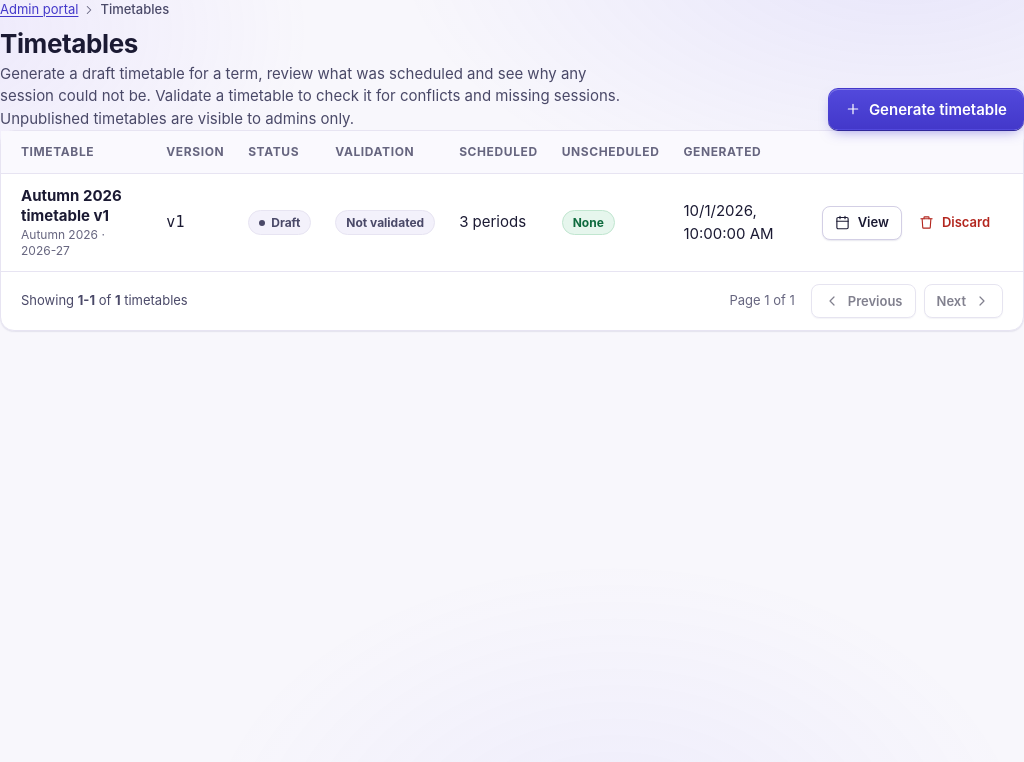
Test case: Editing a class › cannot save until something changes, and the rooms follow the chosen time
This screenshot has width=1024, height=762.
Click the button "View". click: (862,223)
box: [822,206,902,240]
(page scrolled)
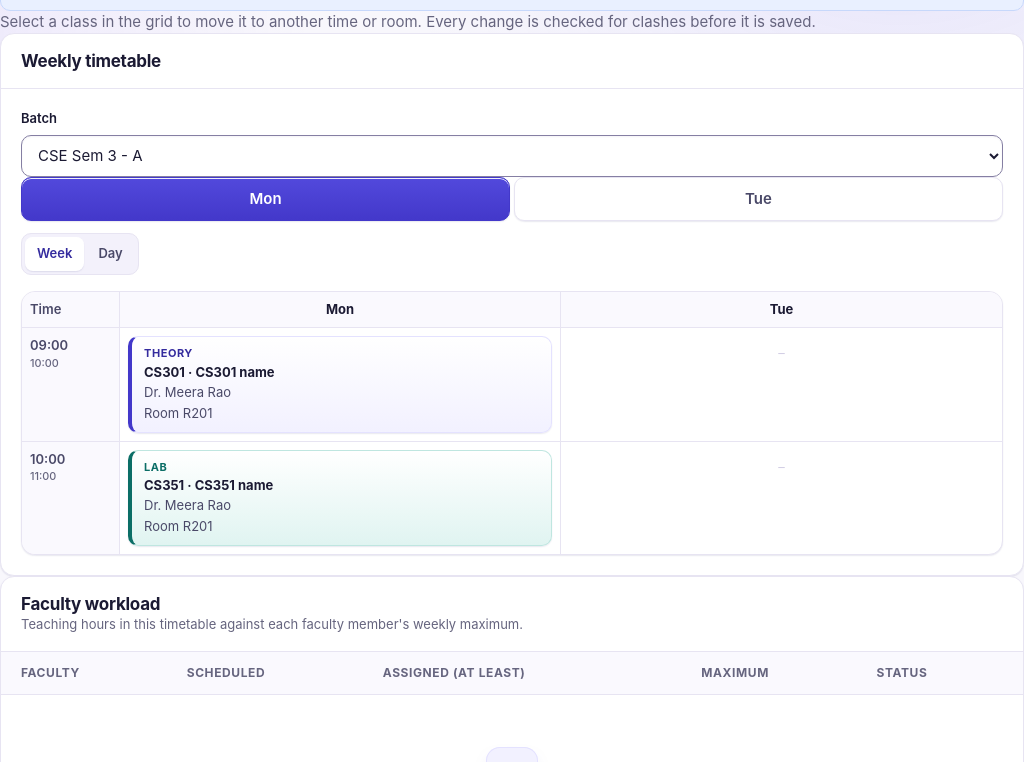
Click the button with aria-label "Move CS301". click: (340,384)
box: [128,336,552,433]
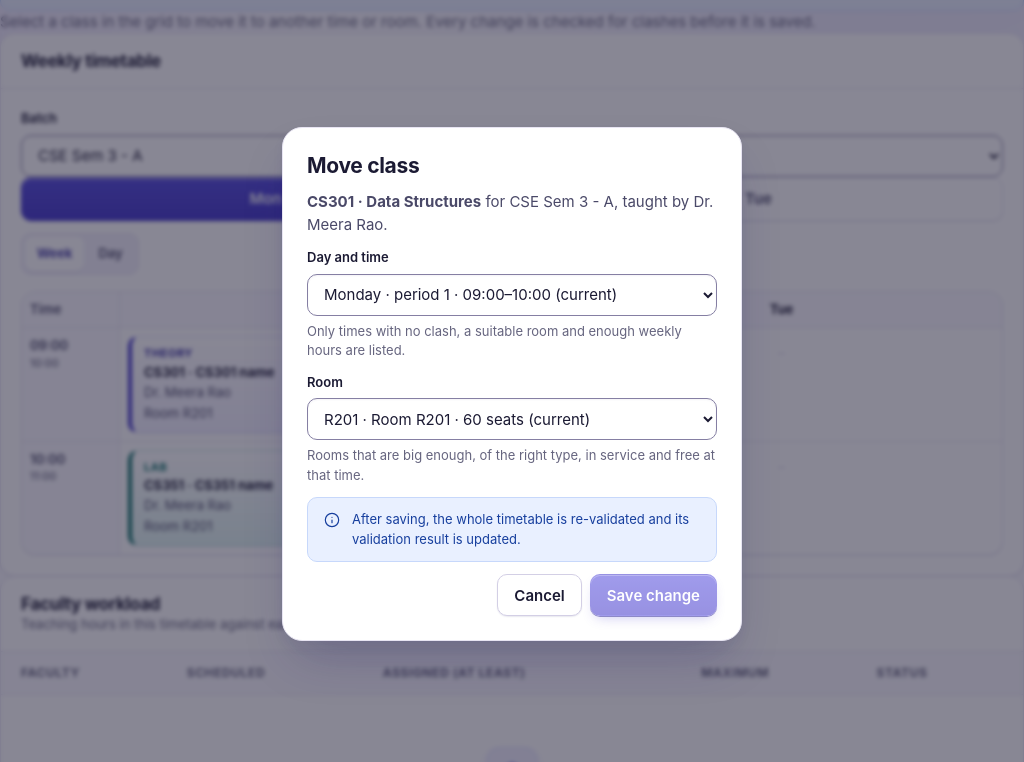
Check: the button "Save change" is disabled, box [590,574,717,616]
Select "Tuesday · period 1 · 09:00–10:00" in the dropdown labelled "Day and time". click: (512,295)
box: [307,274,717,316]
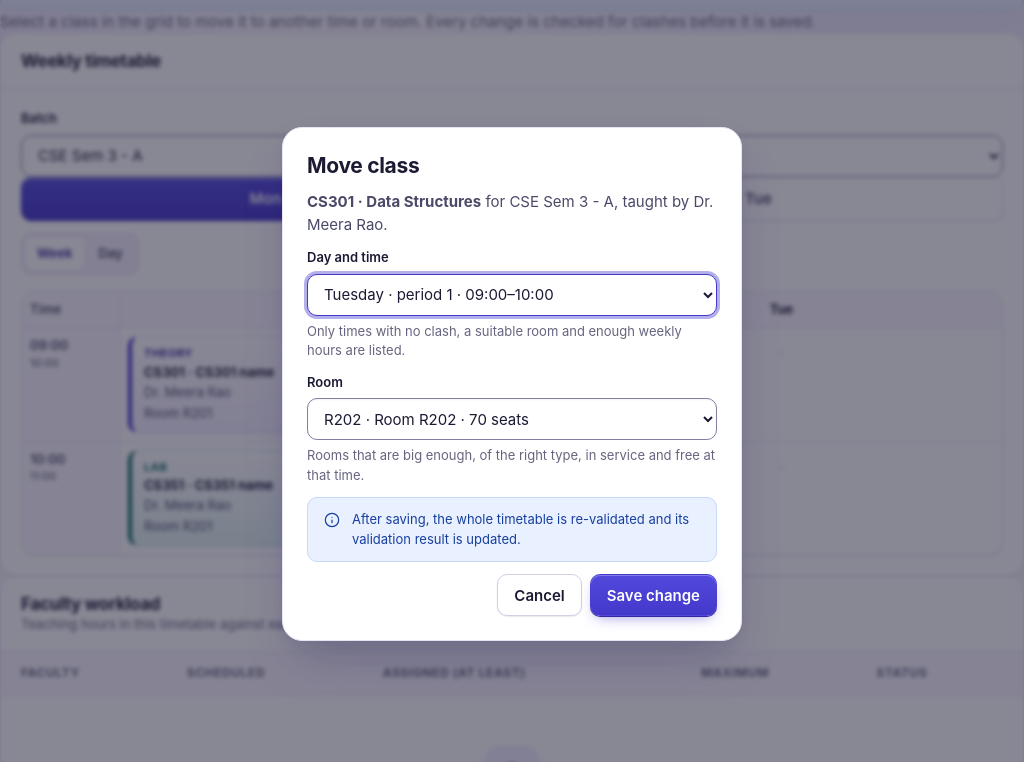
Check: the dropdown labelled "Room" shows "R202 · Room R202 · 70 seats", box [307,398,717,440]
Check: the button "Save change" is enabled, box [590,574,717,616]
